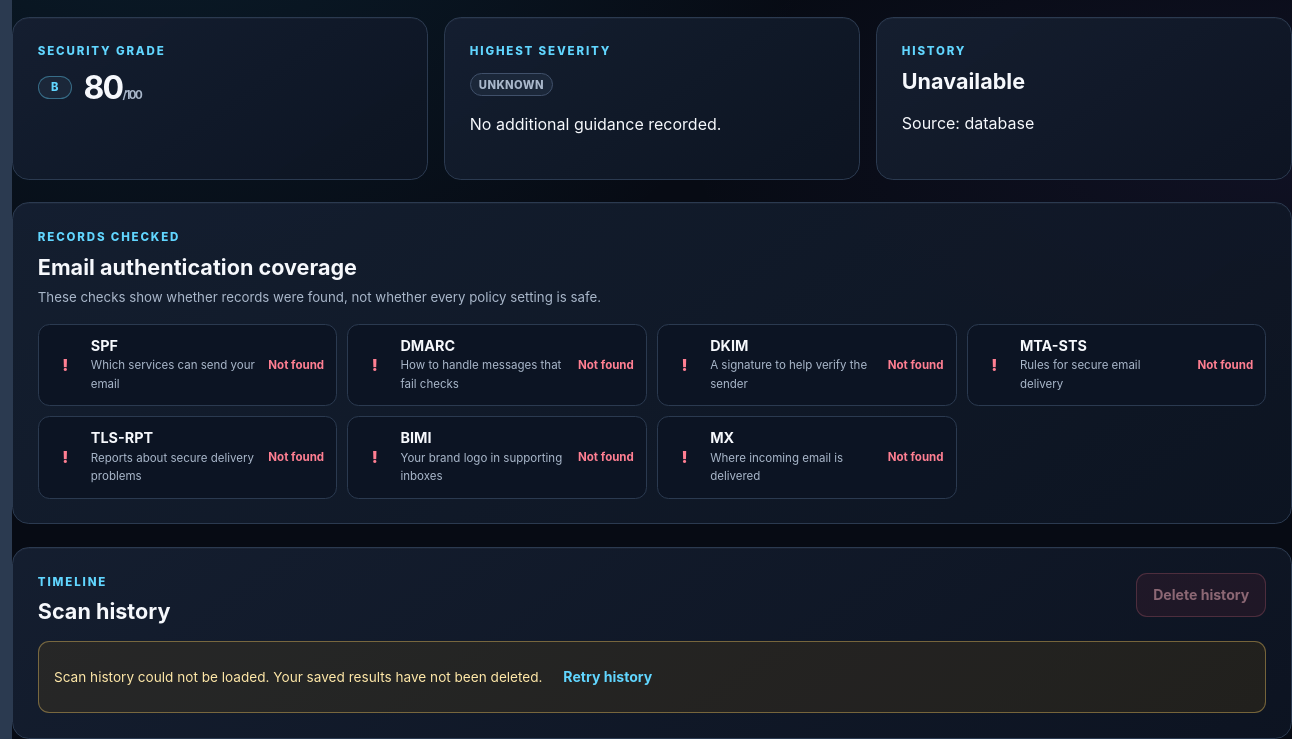
Test case: Domain detail route safety › reports a failed history request instead of presenting an empty history, and can retry
(page scrolled)
Expected: the heading "Unavailable" is shown, [902, 68, 1025, 94]
Expected: the message shows "Scan history could not be loaded", [54, 669, 546, 685]
Click the button "Retry history": [608, 677] box [546, 655, 669, 699]
(page scrolled)
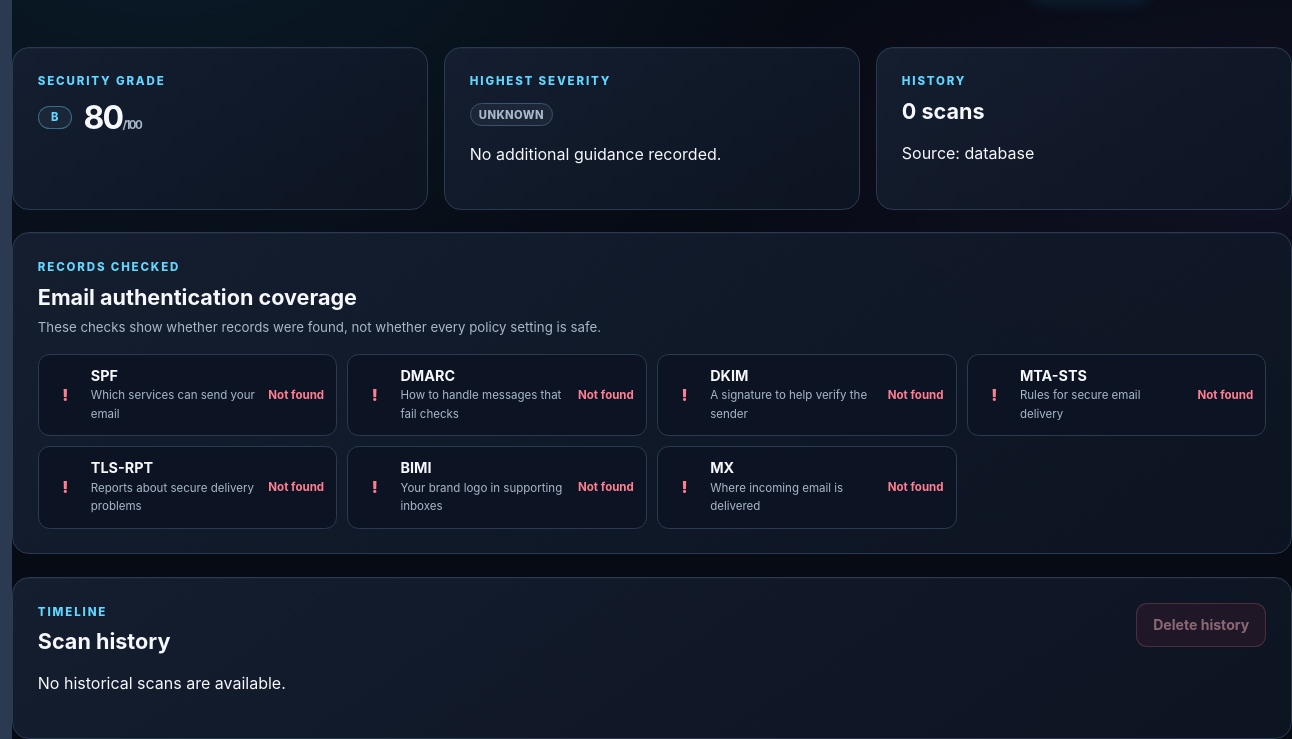
Now the heading "0 scans" is shown, box [902, 98, 985, 124]
Now the text "No historical scans are available." is shown, box [38, 673, 286, 693]
